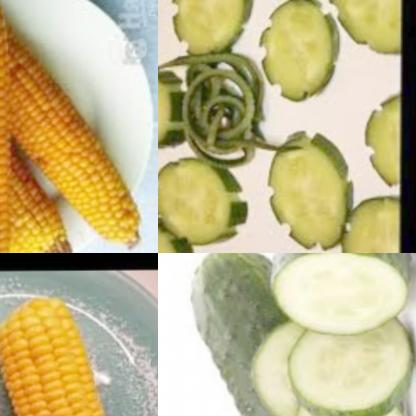corn: (0, 28, 144, 253), (0, 289, 145, 416), (0, 46, 75, 253)
cucumber: (189, 253, 389, 416), (281, 318, 416, 416), (263, 253, 416, 330), (261, 130, 350, 251), (158, 149, 253, 253), (259, 0, 346, 98), (169, 0, 255, 59), (361, 89, 403, 192), (326, 0, 402, 56), (344, 195, 399, 253), (158, 65, 185, 155)
